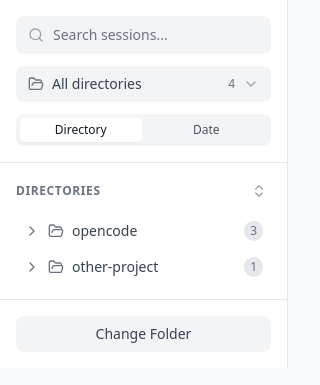
Test case: SessionBrowser › search input › shows no matching sessions message when search has no results
In the field with placeholder "Search sessions...": coordinates (144, 35) x1=16 y1=16 x2=271 y2=54, type "nonexistent query xyz123"
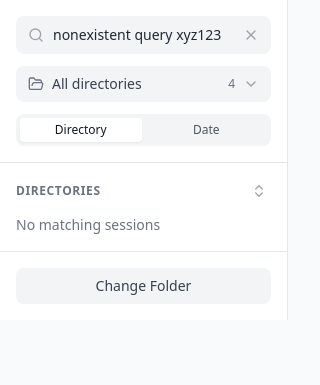
Expected: the text "No matching sessions" is shown, x1=16 y1=215 x2=160 y2=234
